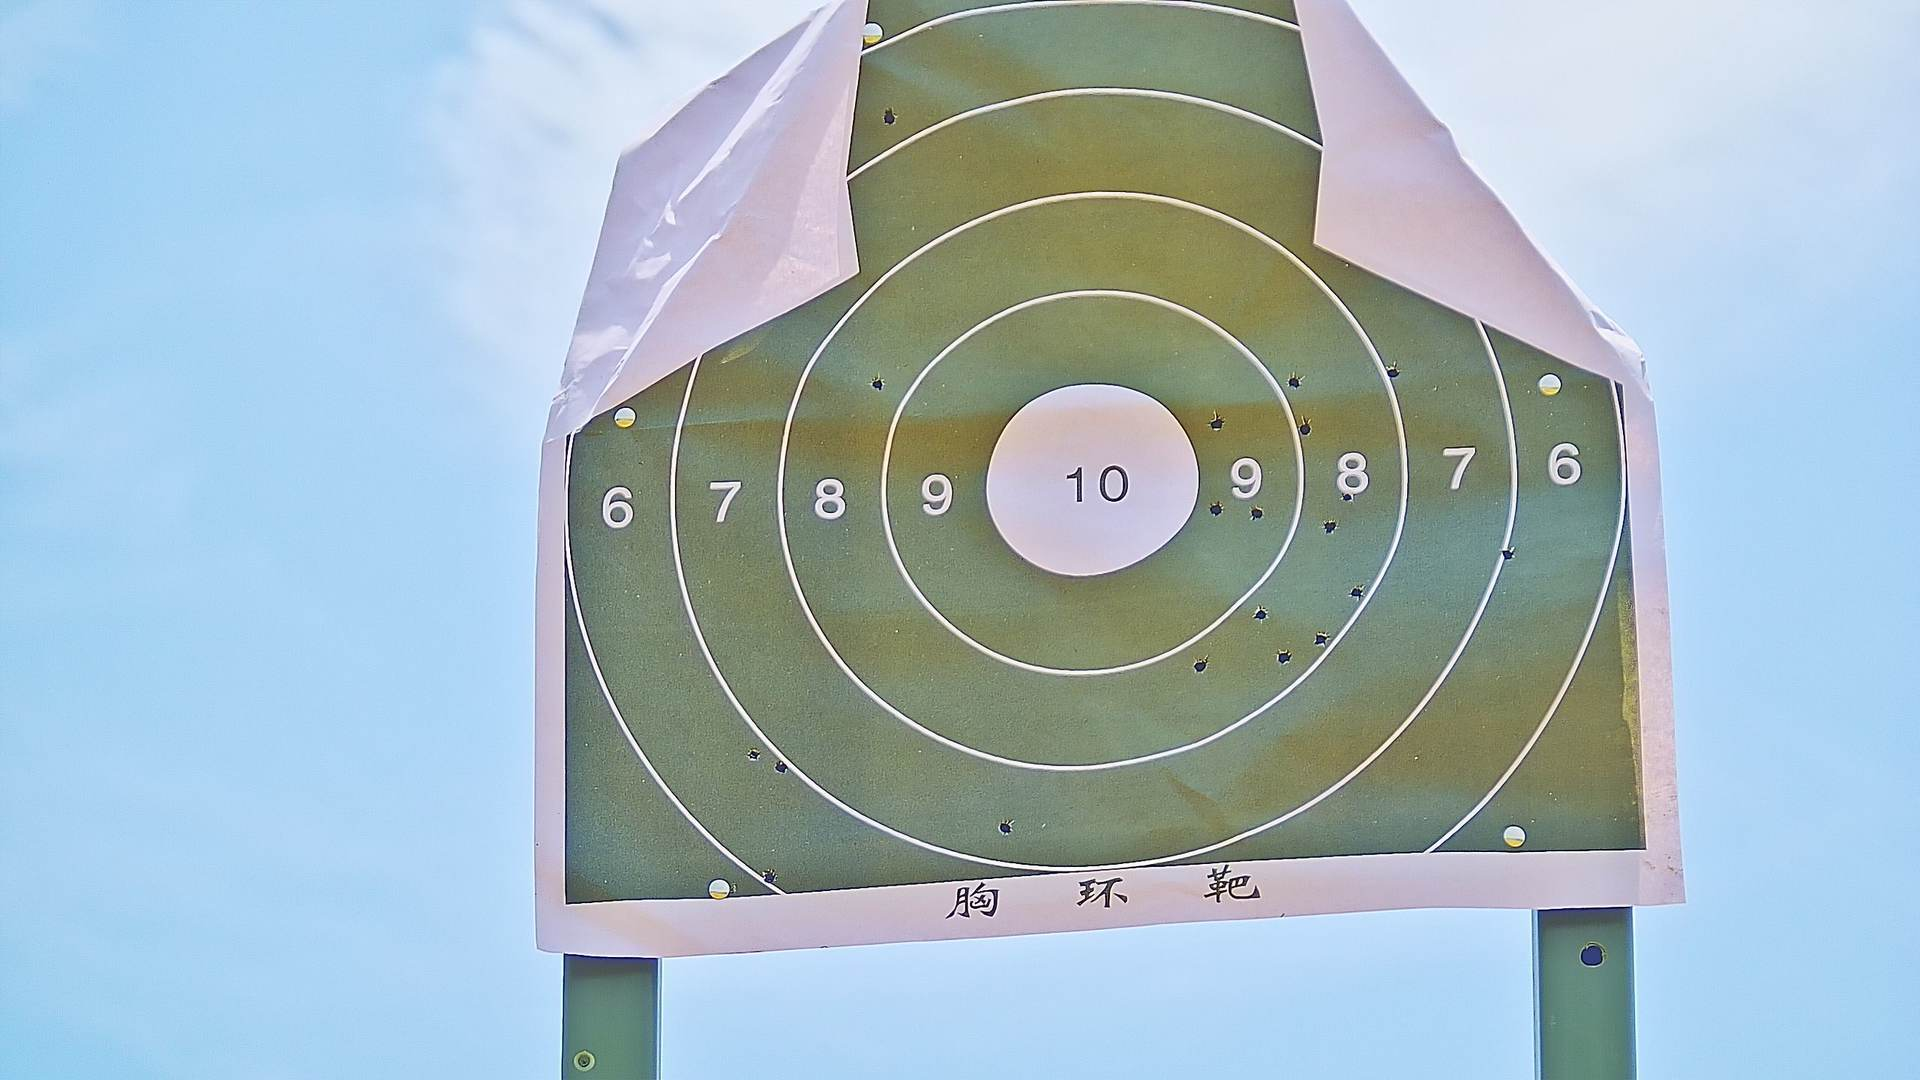hole: (881, 105, 899, 125), (993, 818, 1011, 837), (869, 377, 886, 394), (1208, 415, 1224, 433), (1250, 505, 1265, 524), (1349, 582, 1364, 600), (1298, 419, 1313, 435), (1315, 632, 1331, 647), (744, 746, 762, 760), (760, 869, 779, 881), (1276, 650, 1292, 665), (1254, 605, 1267, 622), (1286, 375, 1303, 388), (1211, 500, 1222, 517), (1323, 518, 1336, 533), (1501, 547, 1514, 562), (775, 760, 787, 775), (1386, 363, 1398, 378), (1196, 657, 1207, 674), (1342, 491, 1356, 504)
kernel: (1088, 483, 1095, 488)
target: (559, 11, 1648, 895)
ten: (981, 380, 1197, 585)
